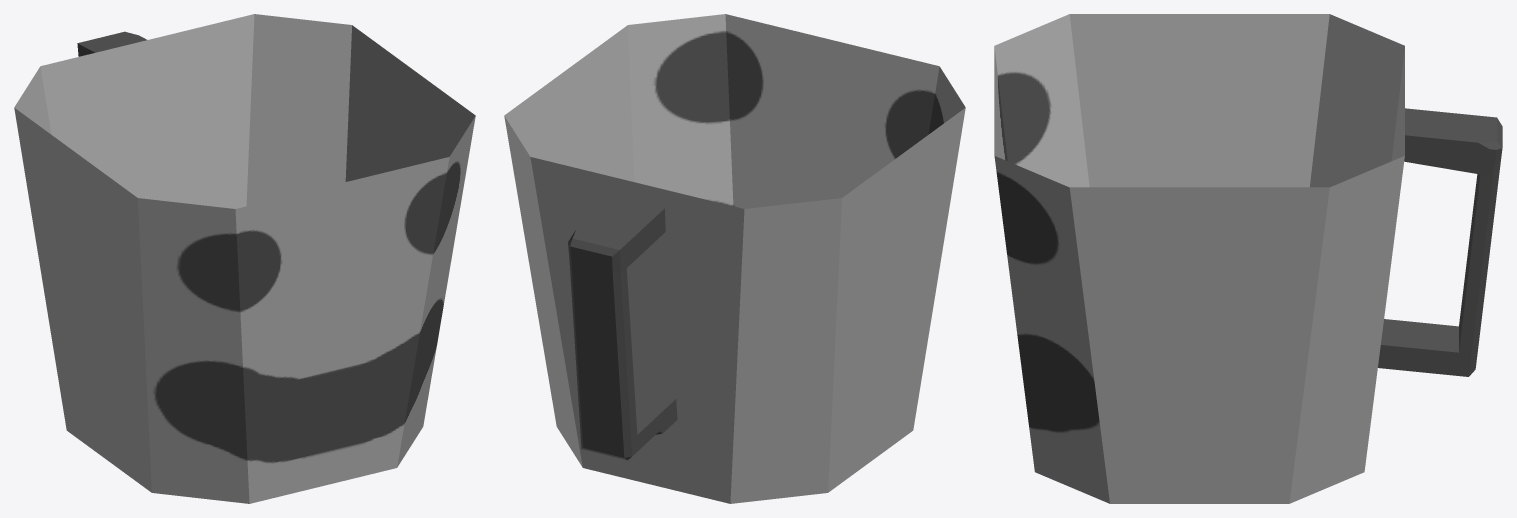
Rendered from Cup.fbx.
3 renders of one model, left to right at view 1: azimuth 30°, elevation 25°; view 2: azimuth 150°, elevation 25°; view 3: azimuth 270°, elevation 25°, orthographic. The views are drawn at different scales.
Visible parts, largest first — view 1: Cube; view 2: Cube; view 3: Cube.
Boxes of the visible parts, x1=… form: Cube: x1=14, y1=14, x2=475, y2=503; Cube: x1=504, y1=14, x2=965, y2=503; Cube: x1=994, y1=14, x2=1502, y2=503.
Size of the model in its own units: 200 by 189 by 248.
1 material, 1 textured.
